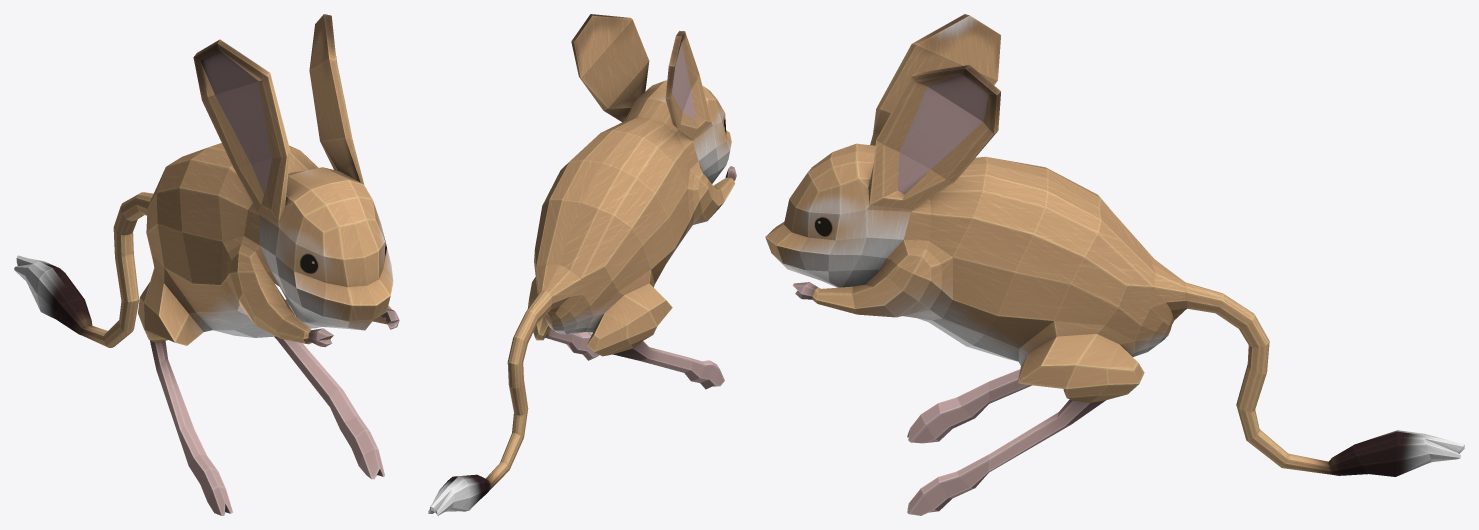
File: 4e596846-c2a0-453a-908a-89aff33a2aff.glb
3 renders of one model, left to right at view 1: azimuth 30°, elevation 25°; view 2: azimuth 150°, elevation 25°; view 3: azimuth 270°, elevation 25°, orthographic. The views are drawn at different scales.
Visible parts, largest first — view 1: Jerboa_mesh; view 2: Jerboa_mesh; view 3: Jerboa_mesh.
Part boxes in pixels (bbox=[...]): Jerboa_mesh: bbox=[14, 14, 399, 515]; Jerboa_mesh: bbox=[428, 14, 736, 515]; Jerboa_mesh: bbox=[765, 14, 1464, 515].
Size of the model in its own units: 3.2 by 8.24 by 11.95.
Materials: 1 (1 with a texture image).
